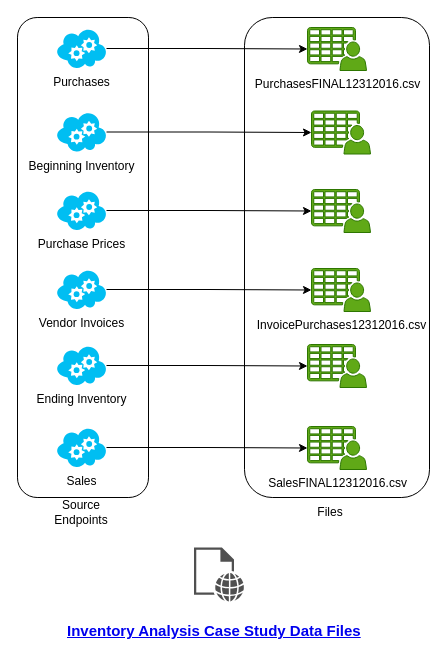
Image size: 447x668. Some labels were removed from this diagram. The shapes that lost their labels are listed below. From the top down, each one's centre as x and y in pixels, then its label:
At point (340, 132): "BegInvFINAL12312016.csv".
At point (340, 210): "2017PurchasePricesDec.csv".
At point (336, 366): "EndInvFINAL12312016.csv".
At point (219, 574): "Source".
